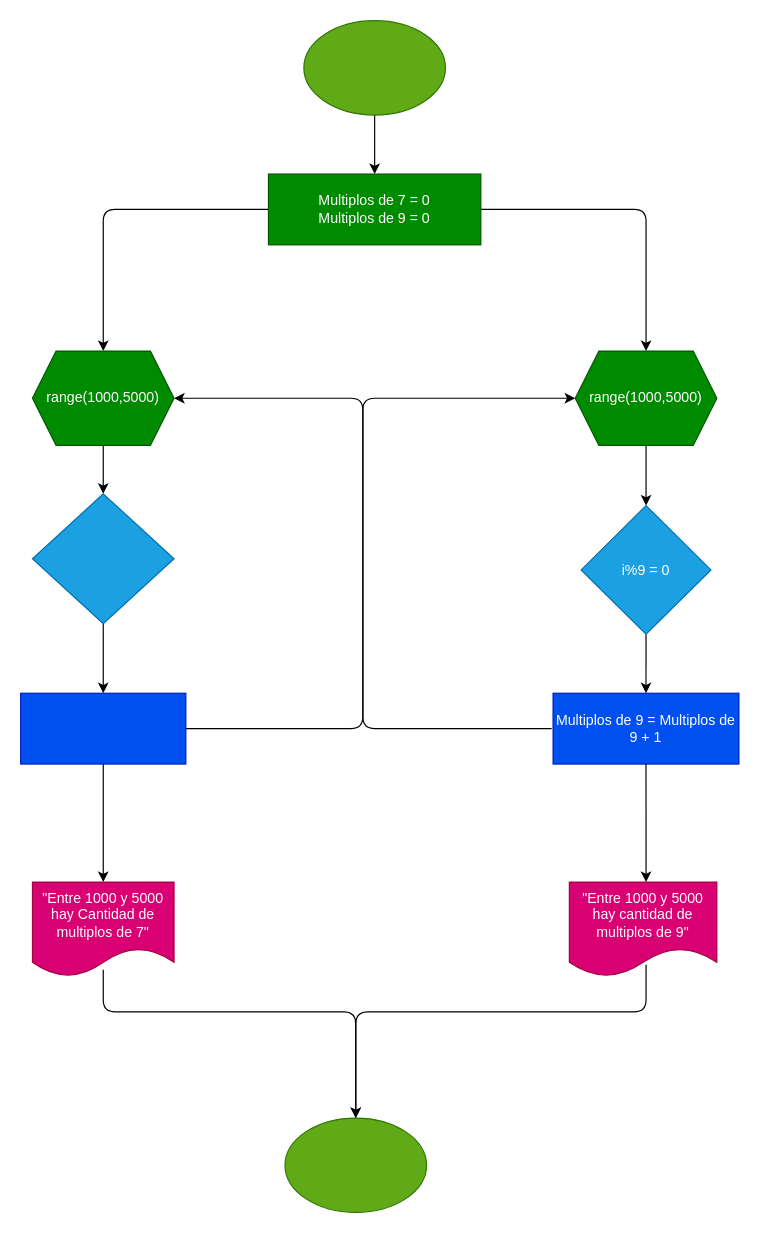
This 760x1233 diagram has some shape labels left out. Here are the shapes that lost their labels. From the top down, the centre of each, then its label:
At (x=374, y=67): "inicio".
At (x=102, y=558): "i%7 = 0".
At (x=102, y=728): "Multiplos de 7= MUltiplos de 7 + 1".
At (x=355, y=1164): "fin".
